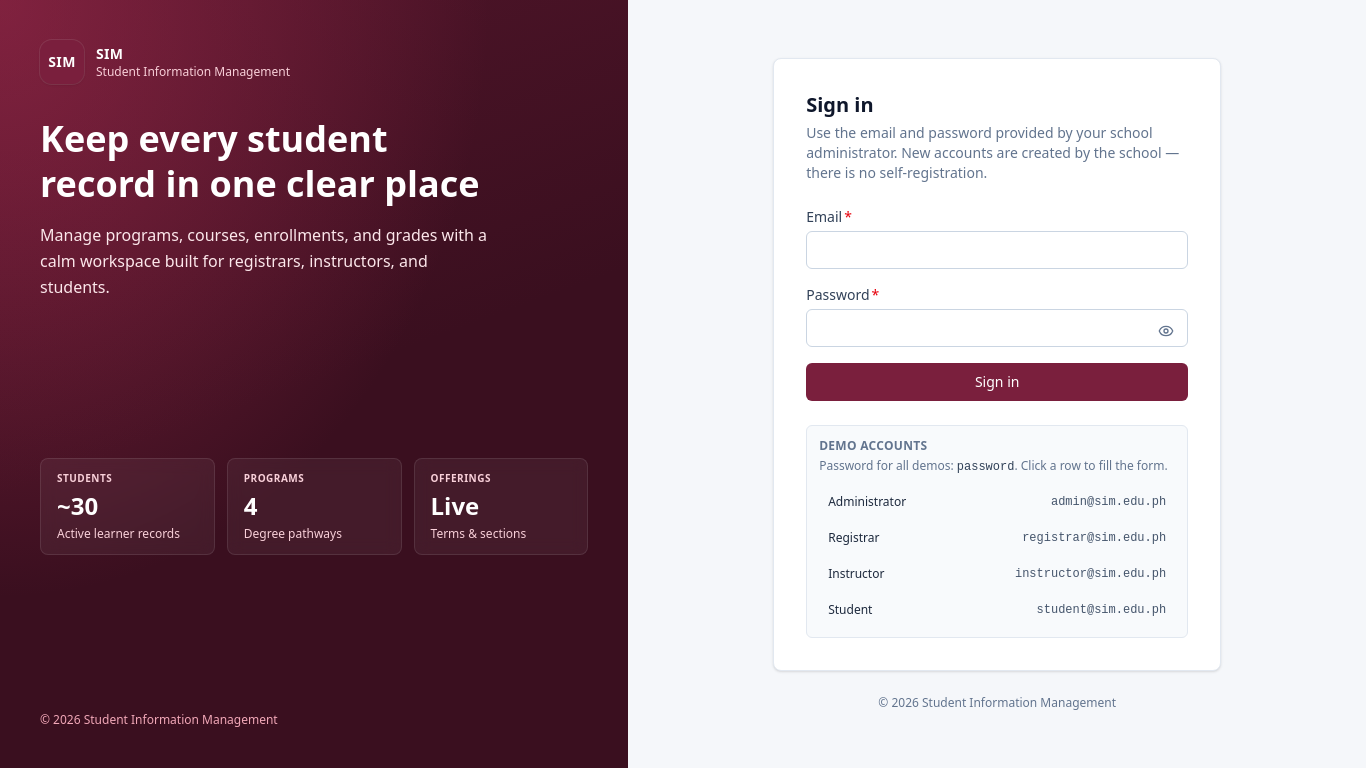
it: LoginPage › fills demo account credentials on click
Click the button "Administrator admin@sim.edu.ph".
click(867, 501)  # box [819, 486, 1175, 516]
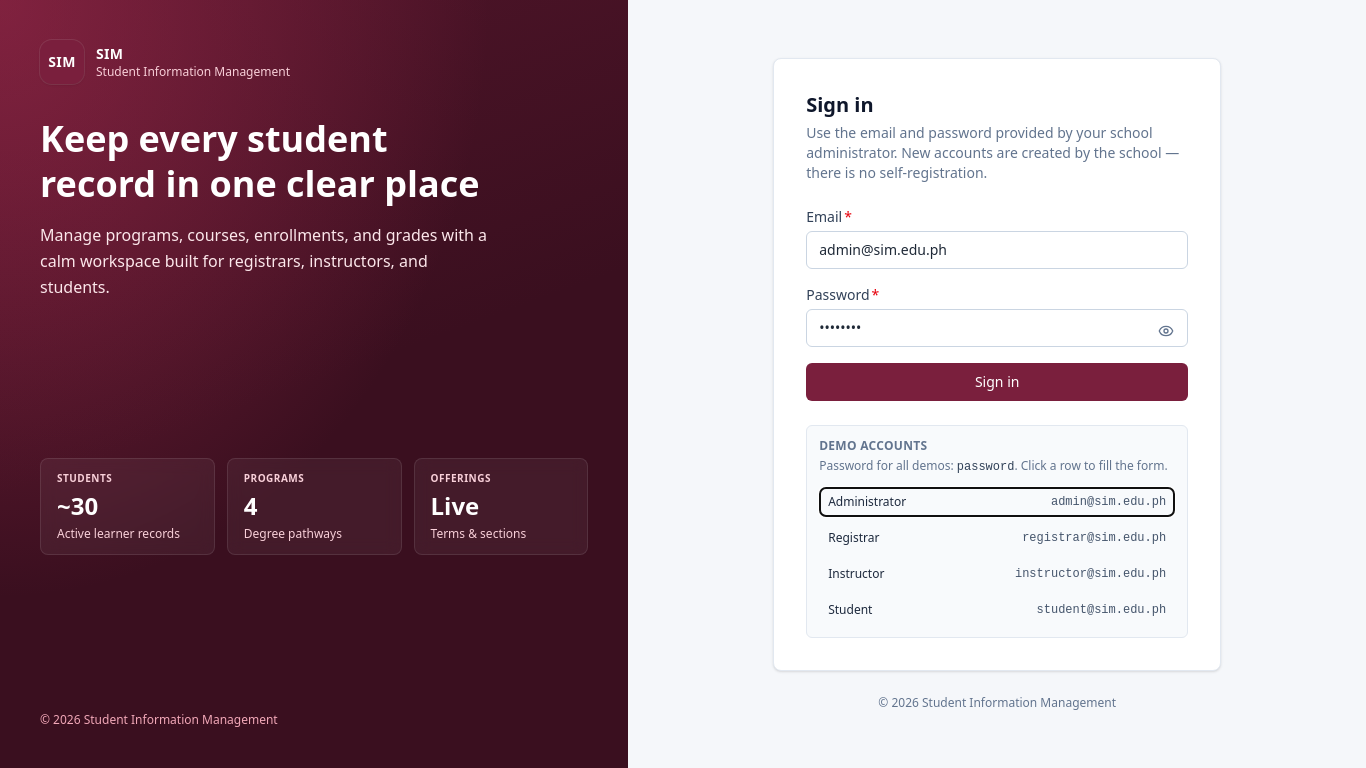
expect the field labelled "Email*" holds "admin@sim.edu.ph": met, box [806, 230, 1188, 268]
expect the password field labelled "Password*" holds "password": met, box [806, 308, 1188, 346]
